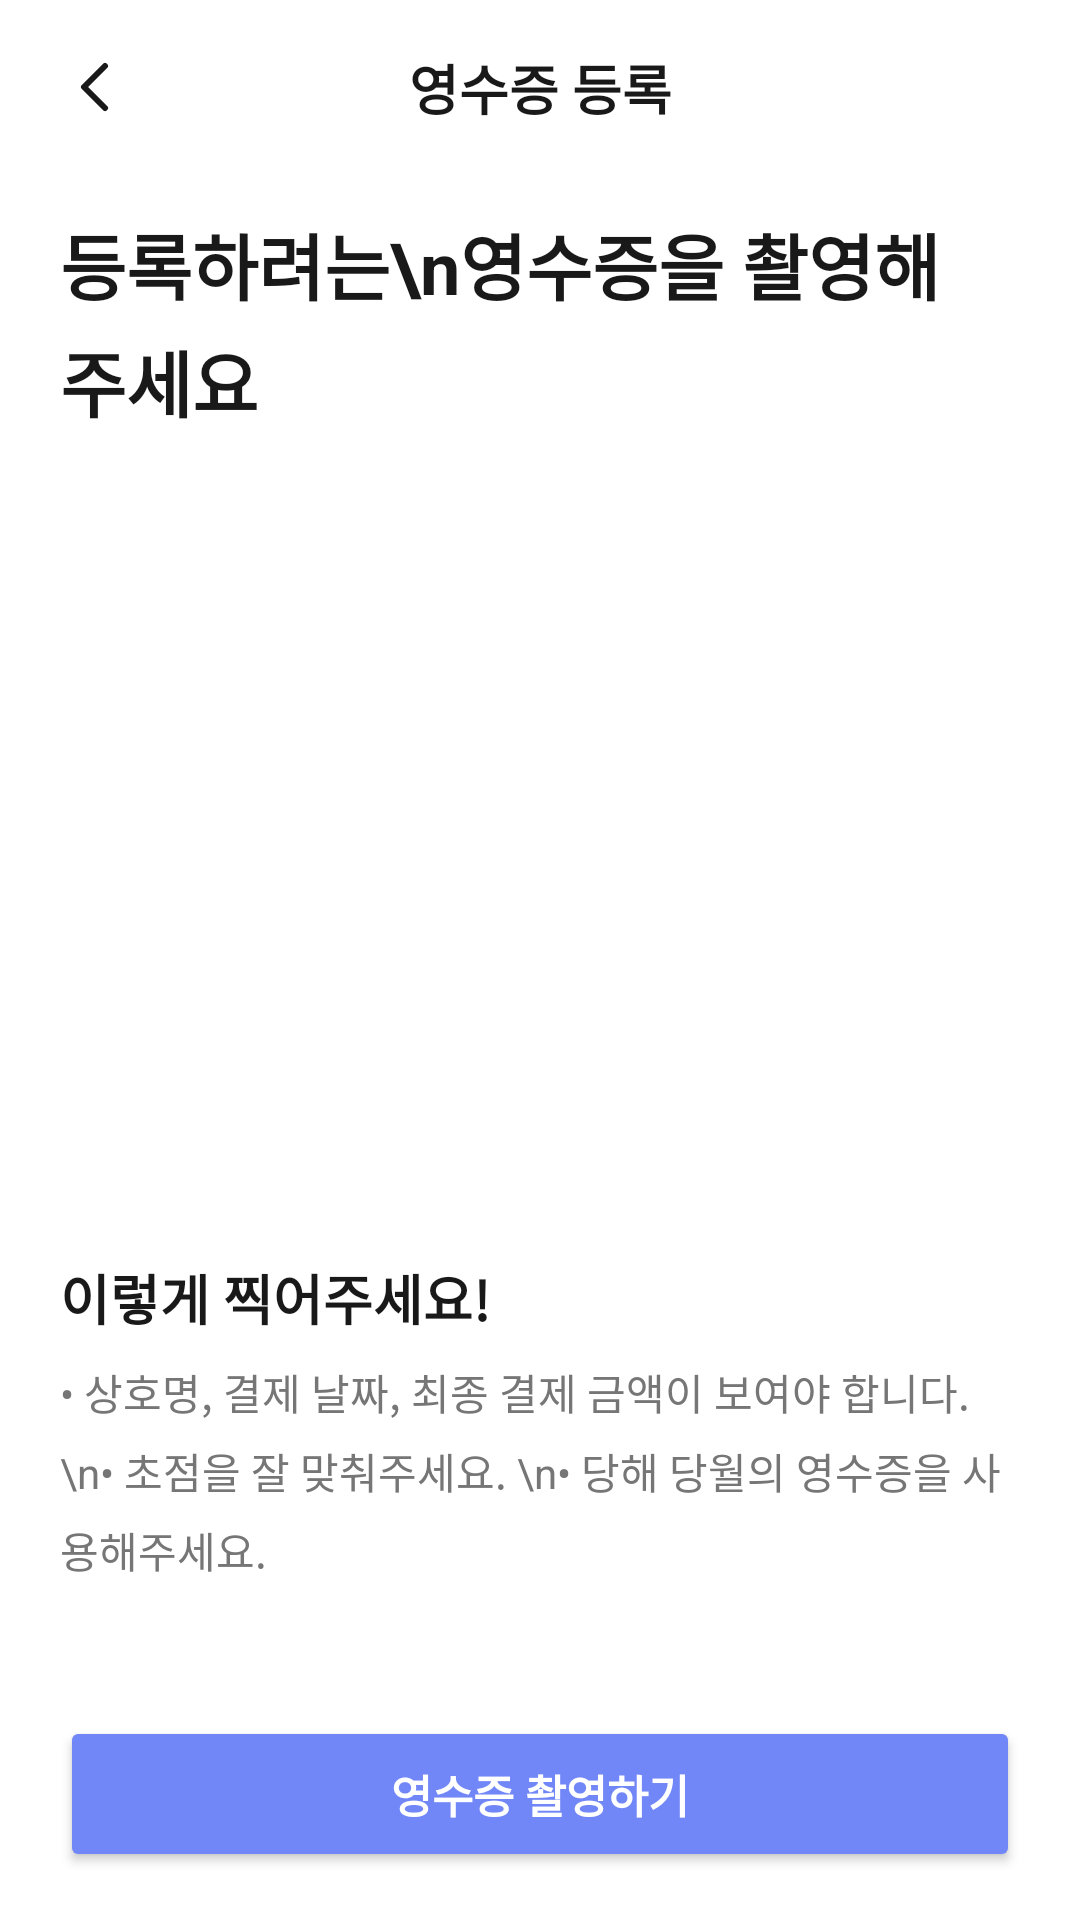

Where to tap for icons on this 1080 x 1920 app screen, as point (x, y):
뒤로가기: point (94, 87)
